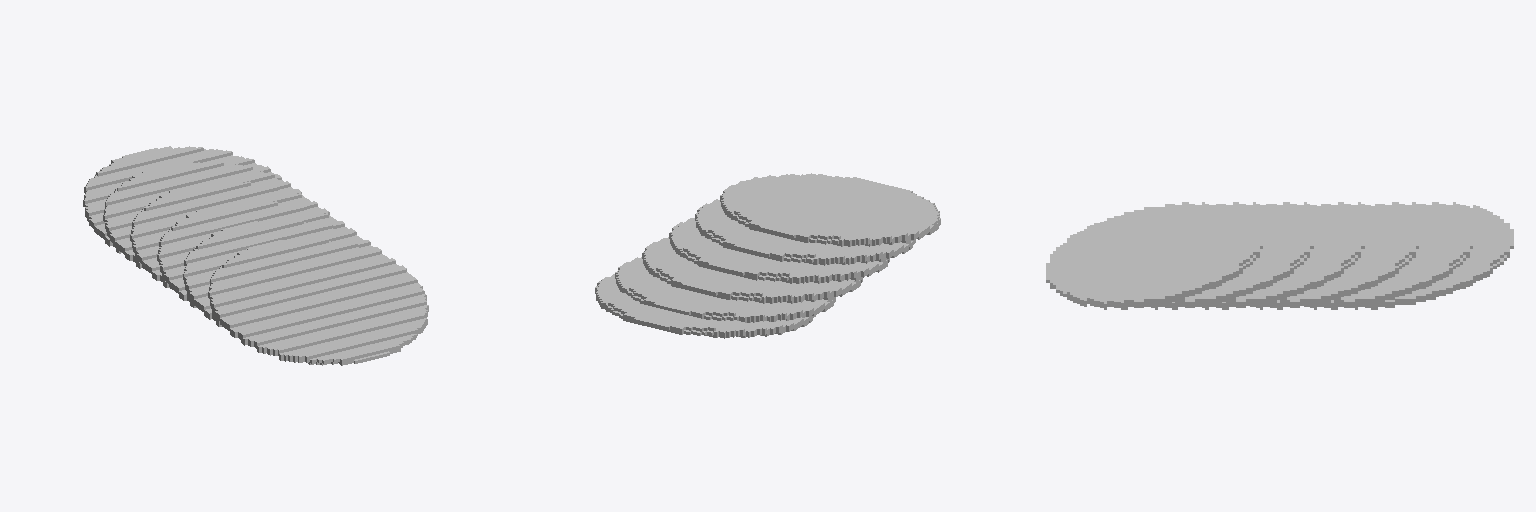
The model's file is CebollaCortada.obj.
The picture shows the model from 3 angles: view 1: azimuth 30°, elevation 25°; view 2: azimuth 150°, elevation 25°; view 3: azimuth 270°, elevation 25°; orthographic projection.
Parts seen in each view (by area): view 1: object 1; view 2: object 1; view 3: object 1.
Boxes of the visible parts, x1,y1,x2,y2 form: object 1: [83, 146, 428, 365]; object 1: [595, 173, 940, 338]; object 1: [1046, 202, 1513, 309].
Bounding box in the file's own units: 6.4 × 1.2 × 13.8.